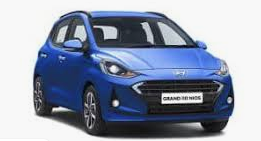car: (30, 9, 236, 136)
